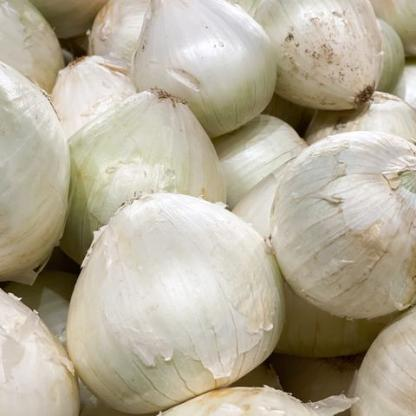onion: (60, 177, 304, 406), (271, 125, 415, 312)
